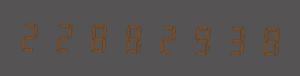eight: (83, 18, 115, 55), (248, 21, 280, 58), (116, 19, 148, 55)
nine: (182, 20, 214, 57)
three: (215, 21, 247, 57)
two: (17, 17, 49, 54), (149, 19, 181, 56), (50, 18, 82, 54)
